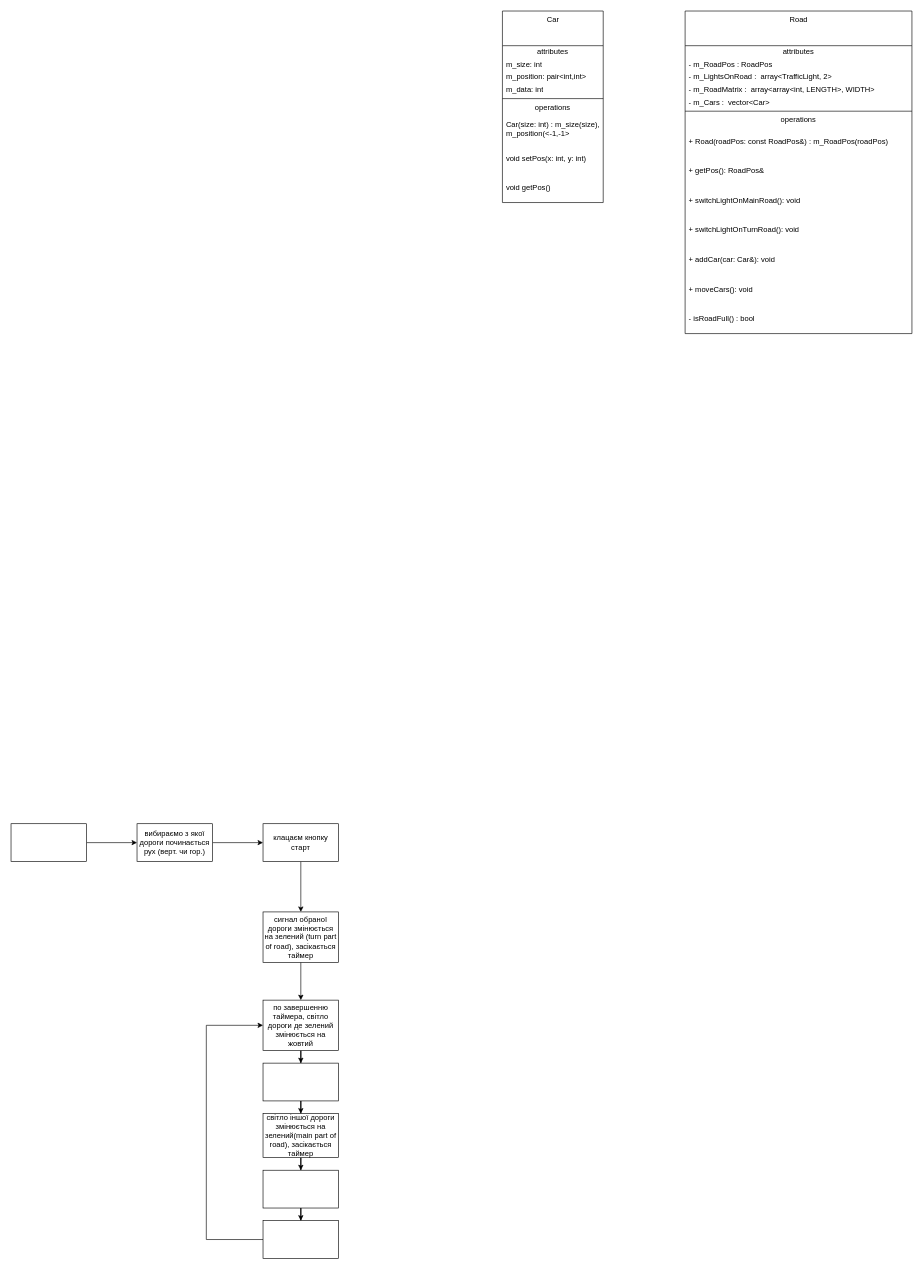
Some shapes in this 923 by 1269 pixel diagram are drawn without their labels. The shapes that lost their labels are listed below. From the top down, each one's centre as x and y in pixels, then its label:
At [48,842]: "вибираємо частоту зміни світлофора в секундах".
At [300,1081]: "світло цієї дороги змінюється на червоний".
At [300,1189]: "по завершенню таймера - на жовтий, потім на червоний".
At [300,1239]: "зелений для іншої дороги(turn part of road), засікається таймер".
